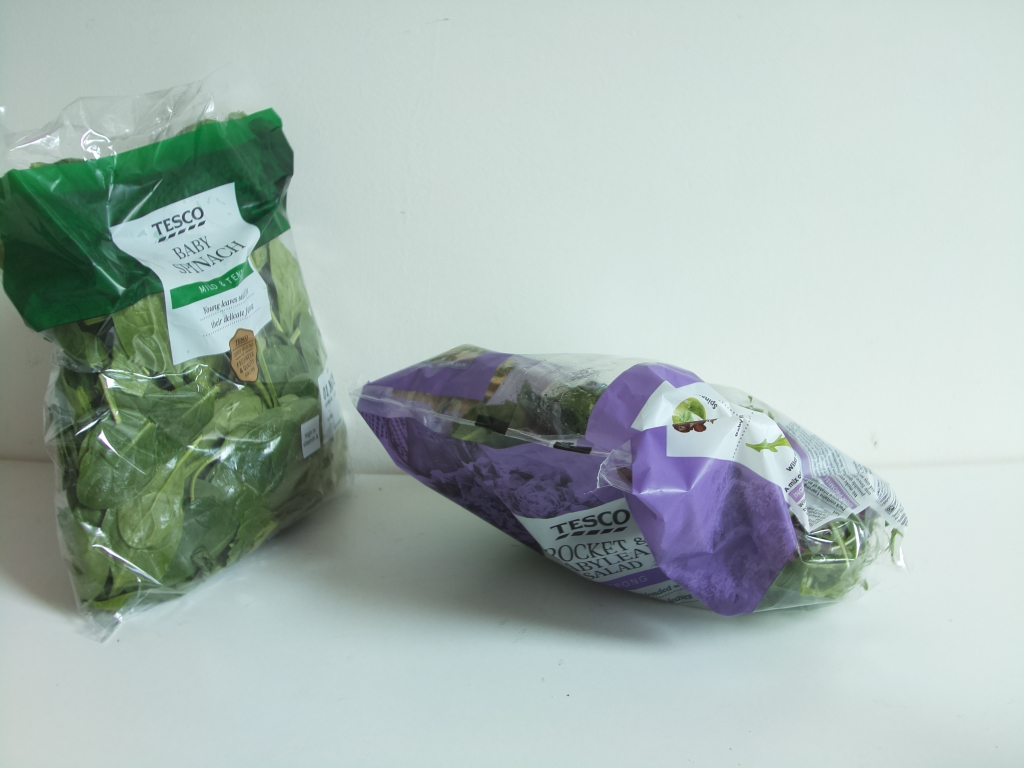salad: (3, 80, 342, 603), (361, 345, 903, 614)
